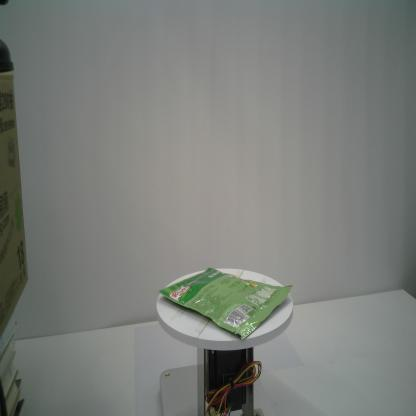Seasoner: (158, 266, 293, 341)
